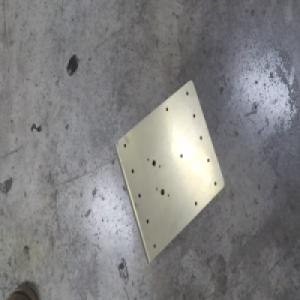MetalSheet: (112, 78, 226, 266)
